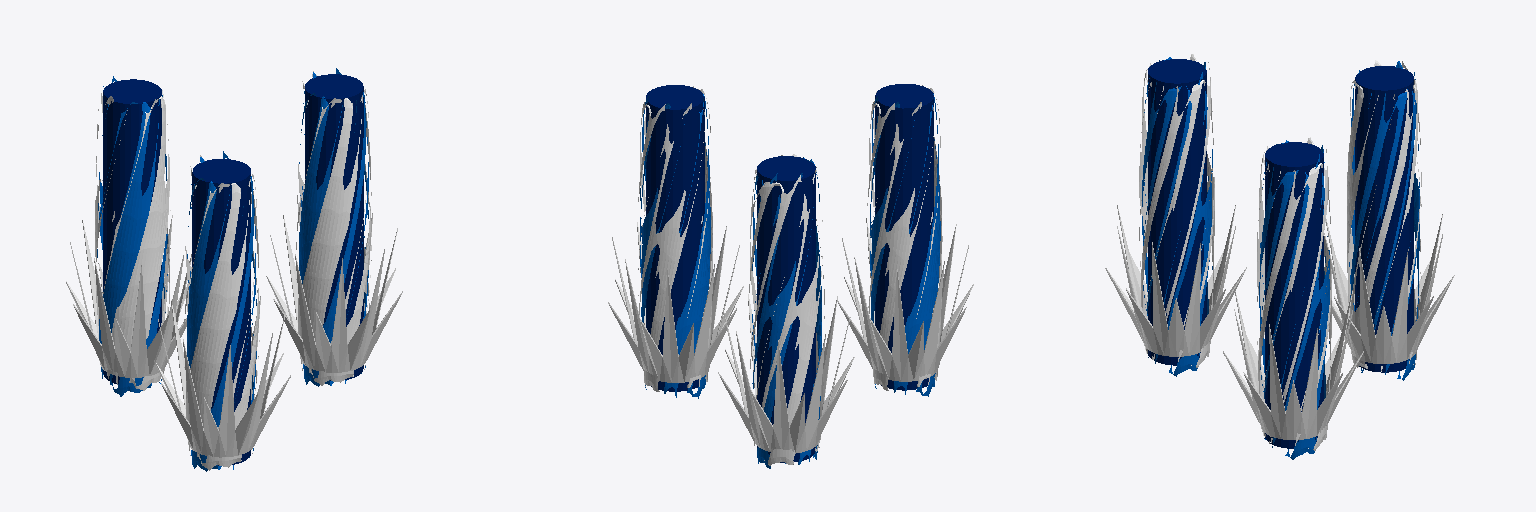
The model's file is 3Impact1.obj.
The picture shows the model from 3 angles: view 1: azimuth 30°, elevation 25°; view 2: azimuth 150°, elevation 25°; view 3: azimuth 270°, elevation 25°; orthographic projection.
Parts seen in each view (by area): view 1: Spinnythings5, Spinnythings2, Spinnythings9, Spinnythings3, Spinnythings6, Bonk2, Bonk1, Bonk3, Spinnythings8, Spinnythings7, Spinnythings1, Spinnythings4; view 2: Spinnythings3, Spinnythings6, Spinnythings9, Bonk3, Bonk2, Bonk1, Spinnythings8, Spinnythings5, Spinnythings2, Spinnythings1, Spinnythings4, Spinnythings7; view 3: Spinnythings9, Spinnythings3, Spinnythings6, Bonk2, Bonk1, Bonk3, Spinnythings5, Spinnythings2, Spinnythings8, Spinnythings1, Spinnythings4, Spinnythings7.
Part boxes in pixels (x1,y1,x2,y2): Spinnythings5: (184,155,259,470); Spinnythings2: (296,71,371,385); Spinnythings9: (103,79,161,383); Spinnythings3: (305,74,363,380); Spinnythings6: (192,159,250,465); Bonk2: (154,296,290,457); Bonk1: (266,213,402,372); Bonk3: (66,215,191,377); Spinnythings8: (95,90,170,390); Spinnythings7: (97,76,167,396); Spinnythings1: (299,68,368,386); Spinnythings4: (187,151,256,471); Spinnythings3: (646,85,704,391); Spinnythings6: (875,84,933,390); Spinnythings9: (757,156,815,462); Bonk3: (718,294,854,453); Bonk2: (837,218,973,381); Bonk1: (608,222,743,382); Spinnythings8: (749,154,824,465); Spinnythings5: (867,85,942,390); Spinnythings2: (638,86,712,391); Spinnythings1: (640,94,710,398); Spinnythings4: (870,94,940,396); Spinnythings7: (752,157,821,468); Spinnythings9: (1355,66,1413,372); Spinnythings3: (1265,142,1323,448); Spinnythings6: (1148,59,1206,365); Bonk2: (1105,205,1246,356); Bonk1: (1223,289,1363,439); Bonk3: (1324,214,1454,363); Spinnythings5: (1139,54,1214,367); Spinnythings2: (1257,137,1331,450); Spinnythings8: (1347,60,1421,371); Spinnythings1: (1259,140,1329,459); Spinnythings4: (1142,57,1212,376); Spinnythings7: (1349,61,1419,380).
Bounding box in the file's own units: 12.71 × 12.47 × 13.1.